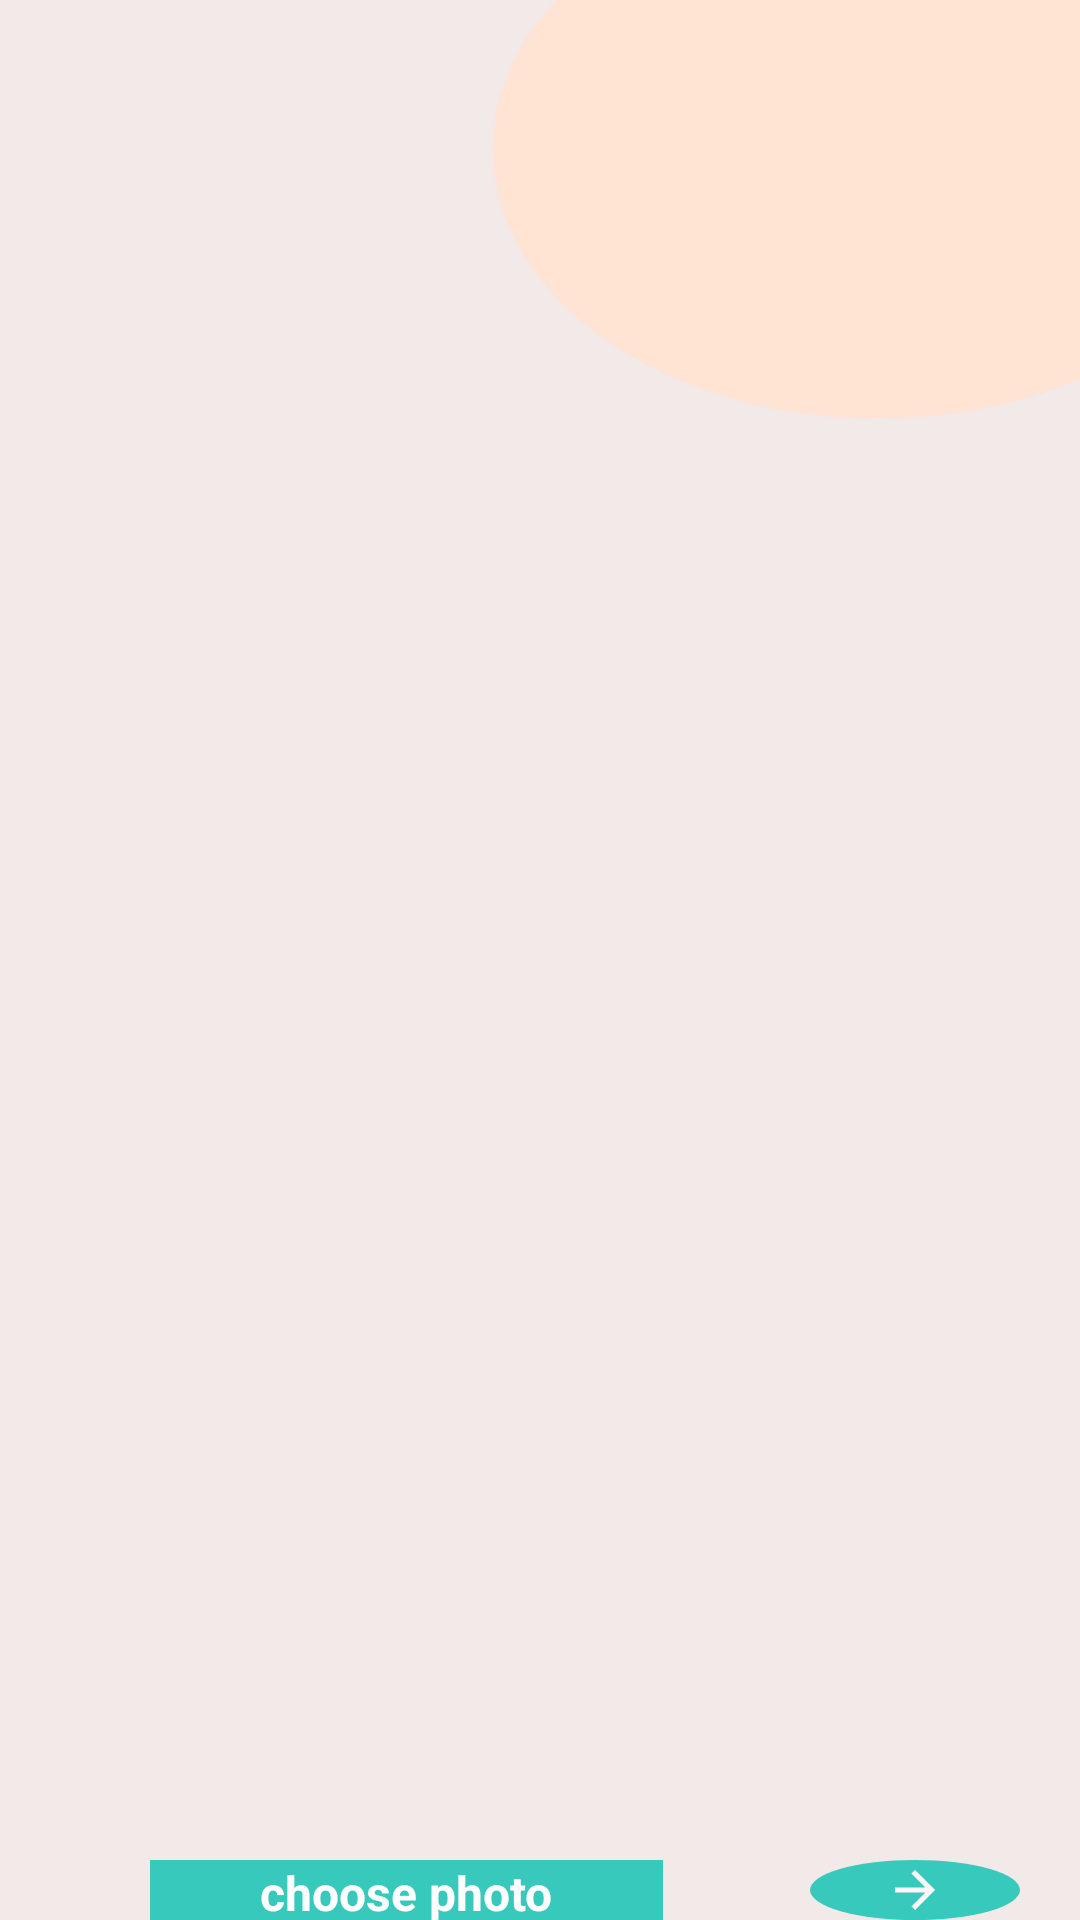

Named icons in this screenshot (1080*1920) and their centers, (x,y):
arrow forward: (915,1890)
